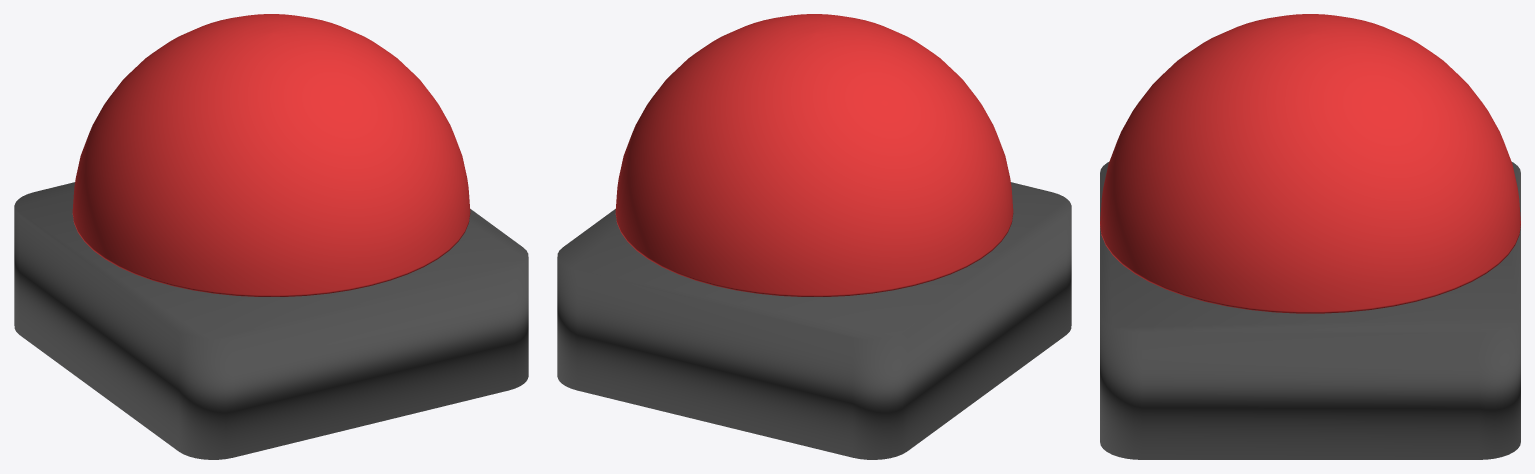
File: buzzer.glb
3 views of the same model, side by side, from view 1: azimuth 30°, elevation 25°; view 2: azimuth 150°, elevation 25°; view 3: azimuth 270°, elevation 25° (orthographic). The views are drawn at different scales.
Parts seen in each view (by area): view 1: top, base; view 2: top, base; view 3: top, base.
Part boxes in pixels (bbox=[...]): top: bbox=[72, 14, 470, 296]; base: bbox=[14, 182, 528, 459]; top: bbox=[615, 14, 1013, 296]; base: bbox=[557, 182, 1071, 459]; top: bbox=[1100, 14, 1520, 313]; base: bbox=[1100, 162, 1520, 459].
Bounding box in the file's own units: 2 × 1.77 × 2.
